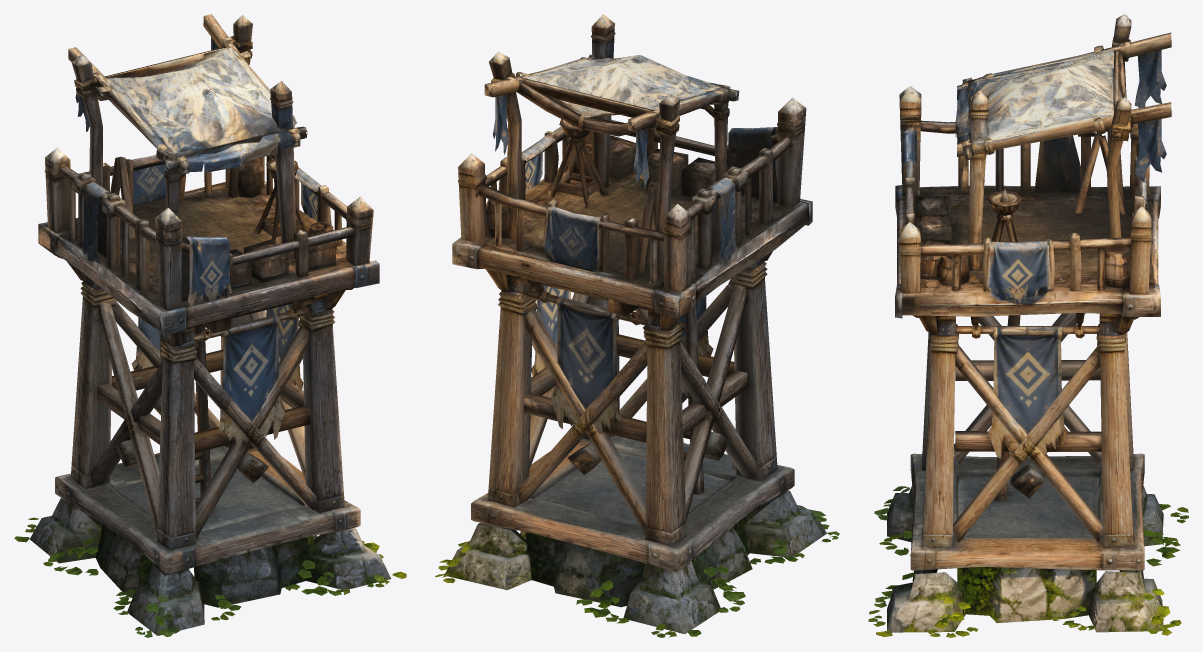
Rendered from medieval+watchtower+3d+model.fbx.
3 views of the same model, side by side, from view 1: azimuth 30°, elevation 25°; view 2: azimuth 150°, elevation 25°; view 3: azimuth 270°, elevation 25° (orthographic). The views are drawn at different scales.
Parts seen in each view (by area): view 1: tripo_02e56e60_2b6f_436d_bd56_f87930625e7a; view 2: tripo_02e56e60_2b6f_436d_bd56_f87930625e7a; view 3: tripo_02e56e60_2b6f_436d_bd56_f87930625e7a.
Part boxes in pixels (box(x1,y1,x2,y2)): tripo_02e56e60_2b6f_436d_bd56_f87930625e7a: box(14, 14, 406, 637); tripo_02e56e60_2b6f_436d_bd56_f87930625e7a: box(435, 14, 839, 637); tripo_02e56e60_2b6f_436d_bd56_f87930625e7a: box(868, 14, 1188, 637).
Size of the model in its own units: 0.5649 by 0.9995 by 0.561.
